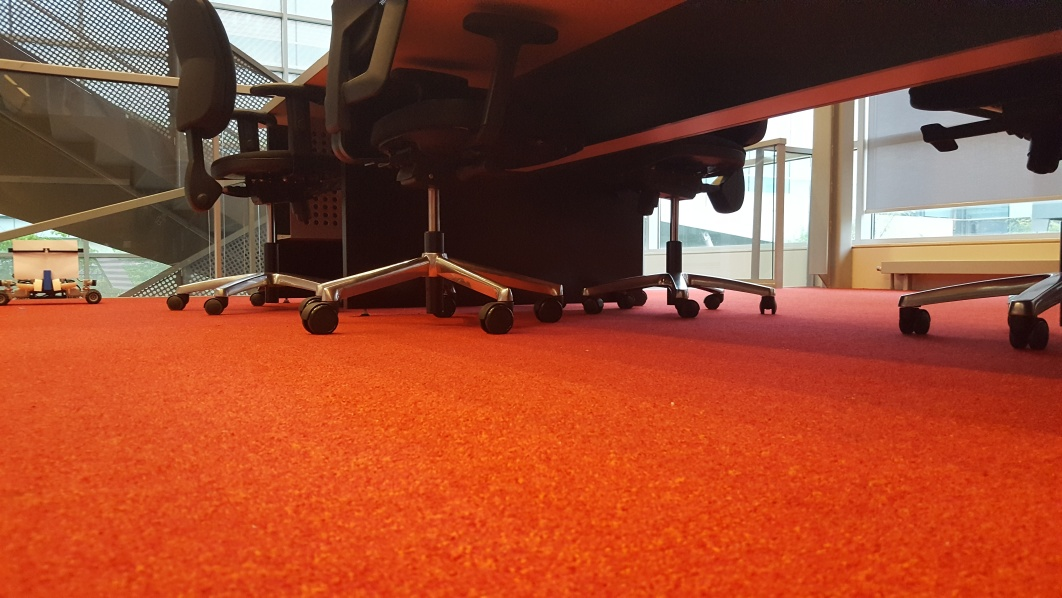car: (1, 240, 102, 306)
